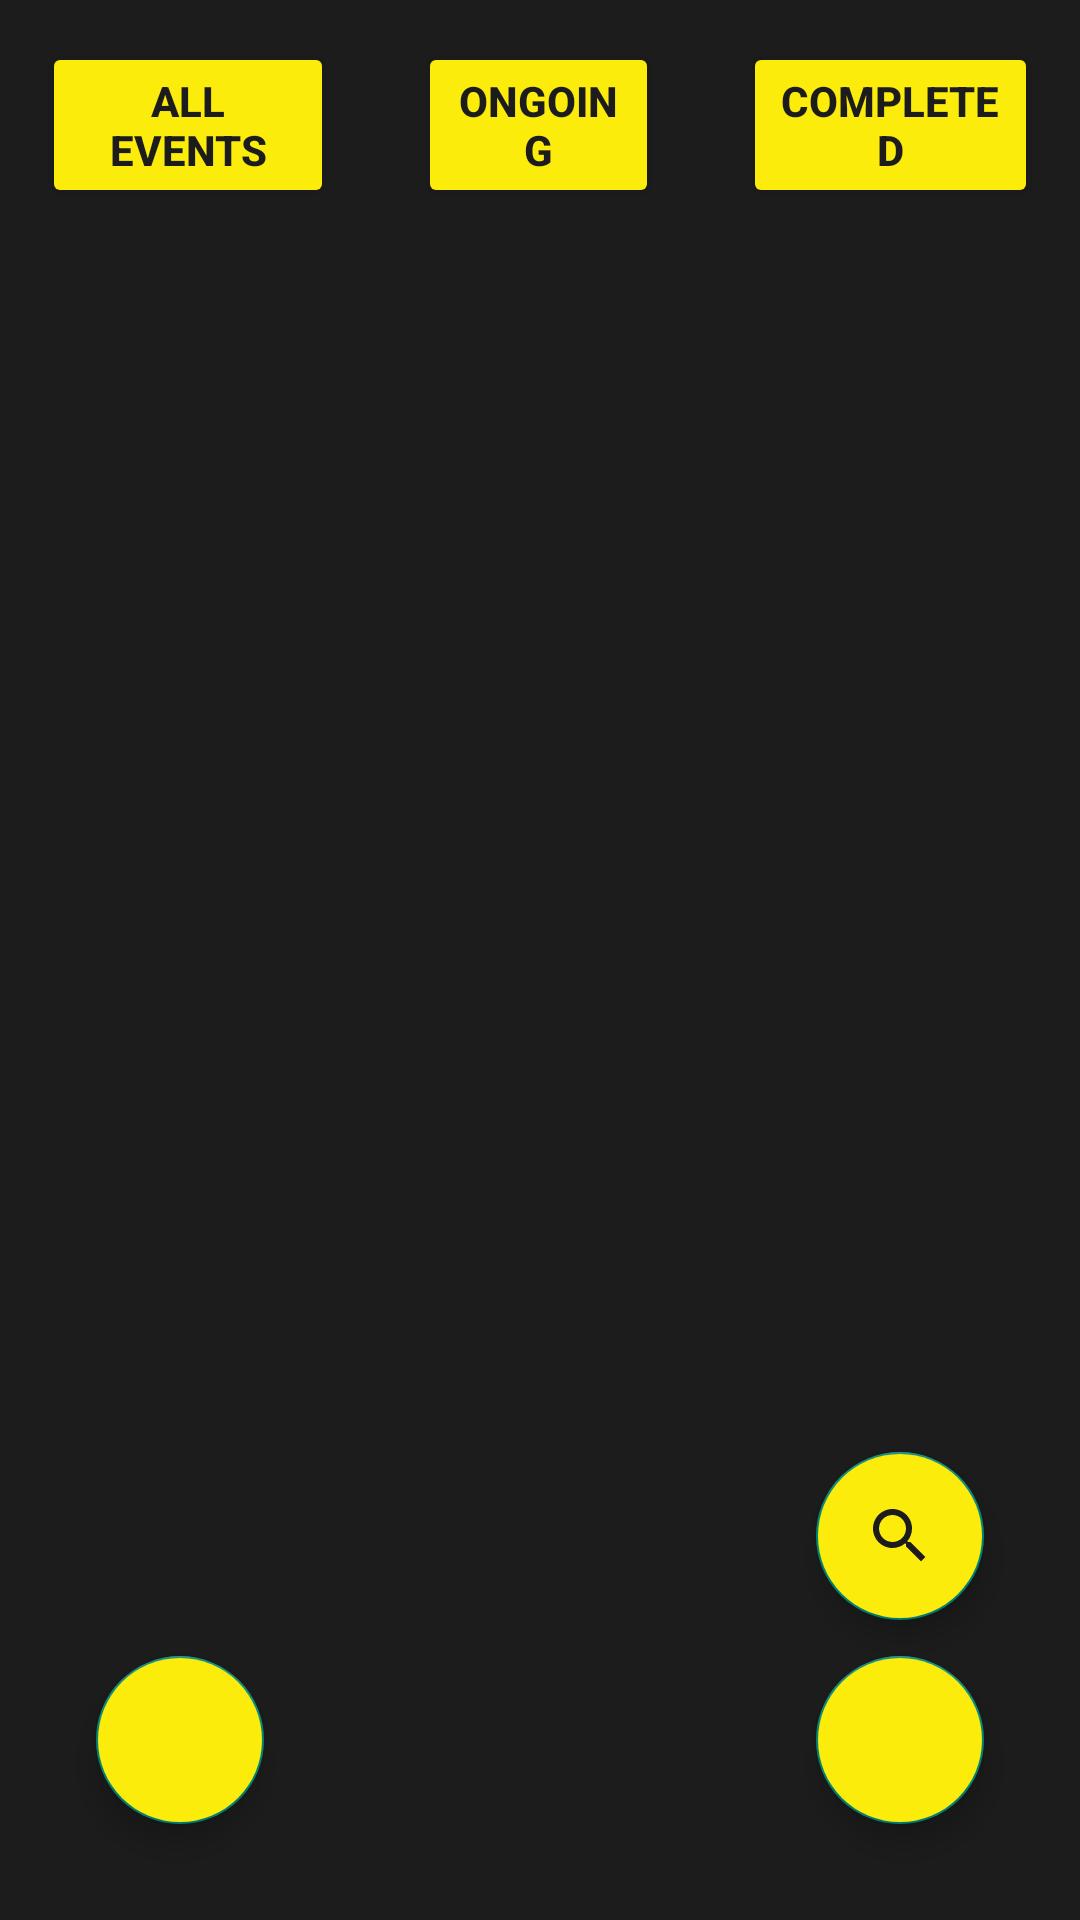

Icon bounding boxes for this 1080 × 1920 phone screenshot, format (x1, y1, x2, y2):
search: (816, 1452, 984, 1620)
